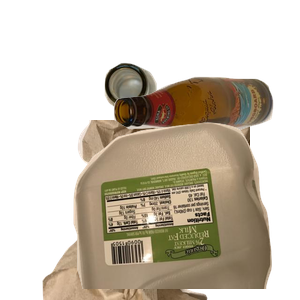glass: (111, 74, 300, 204)
metal: (102, 60, 252, 169)
plastic: (71, 120, 300, 300)
trash: (40, 120, 280, 300)
